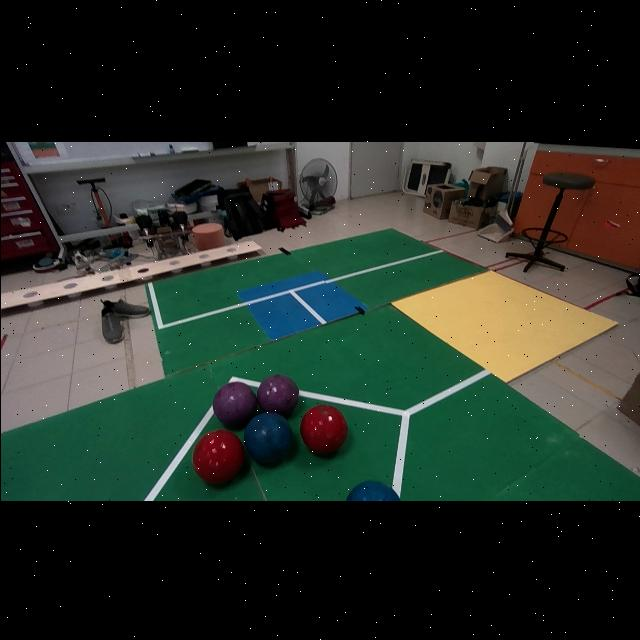B: (243, 410, 291, 464), (345, 479, 400, 500)
P: (212, 381, 256, 426), (256, 373, 297, 415)
R: (191, 429, 243, 483), (300, 403, 347, 455)
